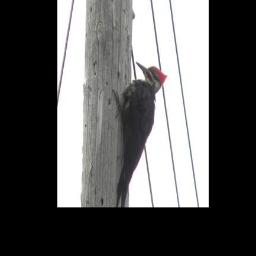Woodpecker: (111, 59, 168, 207)
